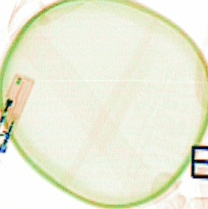lighter: (1, 70, 35, 153)
